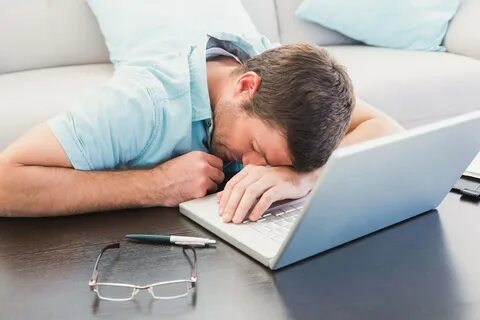sleep: (1, 32, 405, 218)
